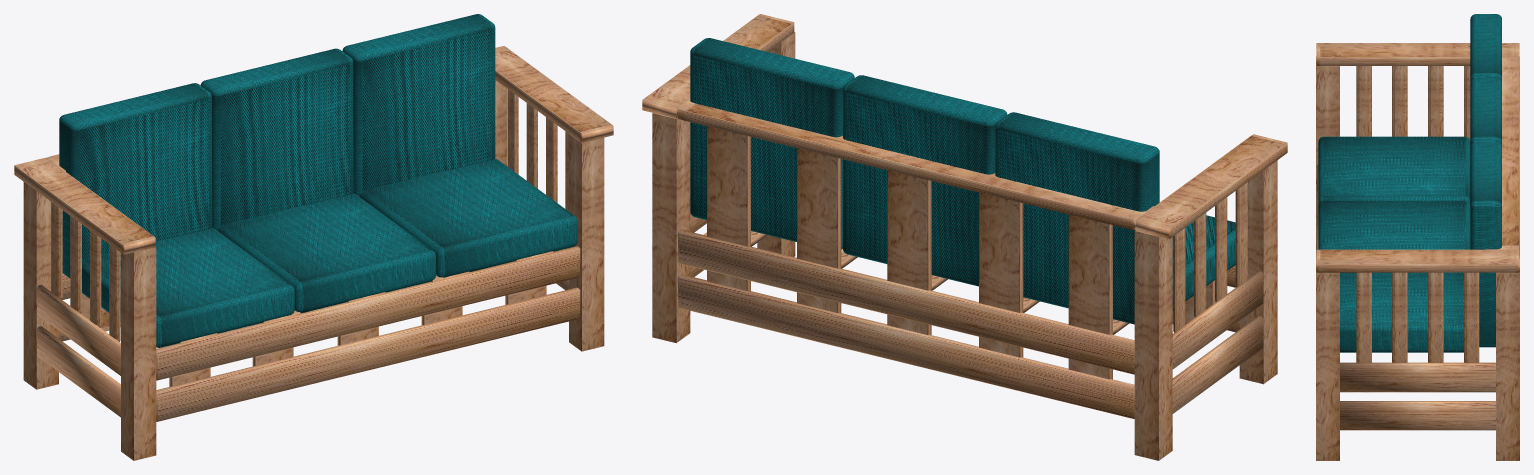
File: Wooden Sofa.dae
3 renders of one model, left to right at view 1: azimuth 30°, elevation 25°; view 2: azimuth 150°, elevation 25°; view 3: azimuth 270°, elevation 25°, orthographic. The views are drawn at different scales.
Parts seen in each view (by area): view 1: Top_, Sit, Front_Support_1, Stand, Handle, Handle_Support, Side_Support, Front_Support_2, Front_Sp; view 2: Top_, back_Support, Stand, Upper_Back_Support, Lower_Back_Support, Back_Support, Handle, Handle_Support, Front_Support_2, Side_Support, Sit, Sit_Support; view 3: Sit, Stand, Handle_Support, Top_, Handle, Front_Support_2, Side_Support, Back_Support, Front_Support_1.
Part boxes in pixels (bbox=[...]): Top_: bbox=[59, 14, 495, 278]; Sit: bbox=[82, 159, 577, 347]; Front_Support_1: bbox=[156, 246, 580, 421]; Stand: bbox=[23, 80, 604, 460]; Handle: bbox=[14, 46, 613, 254]; Handle_Support: bbox=[51, 89, 568, 341]; Side_Support: bbox=[37, 280, 568, 417]; Front_Support_2: bbox=[37, 284, 120, 375]; Front_Sp: bbox=[169, 285, 546, 386]; Top_: bbox=[690, 38, 1159, 324]; back_Support: bbox=[707, 126, 1112, 379]; Stand: bbox=[652, 32, 1277, 460]; Upper_Back_Support: bbox=[678, 229, 1134, 374]; Lower_Back_Support: bbox=[678, 274, 1134, 418]; Back_Support: bbox=[677, 99, 1154, 229]; Handle: bbox=[642, 14, 1287, 238]; Handle_Support: bbox=[1173, 182, 1247, 332]; Front_Support_2: bbox=[690, 213, 1263, 369]; Side_Support: bbox=[690, 232, 1263, 413]; Sit: bbox=[1172, 215, 1235, 310]; Sit_Support: bbox=[751, 231, 1129, 334]; Sit: bbox=[1318, 136, 1470, 352]; Stand: bbox=[1316, 56, 1519, 460]; Handle_Support: bbox=[1356, 66, 1479, 362]; Top_: bbox=[1470, 14, 1501, 347]; Handle: bbox=[1316, 43, 1519, 272]; Front_Support_2: bbox=[1340, 362, 1495, 392]; Side_Support: bbox=[1340, 401, 1495, 430]; Back_Support: bbox=[1485, 57, 1519, 249]; Front_Support_1: bbox=[1316, 164, 1318, 249].
Bounding box in the file's own units: 876 × 456 × 341.
Materials: 2 (2 with a texture image).
